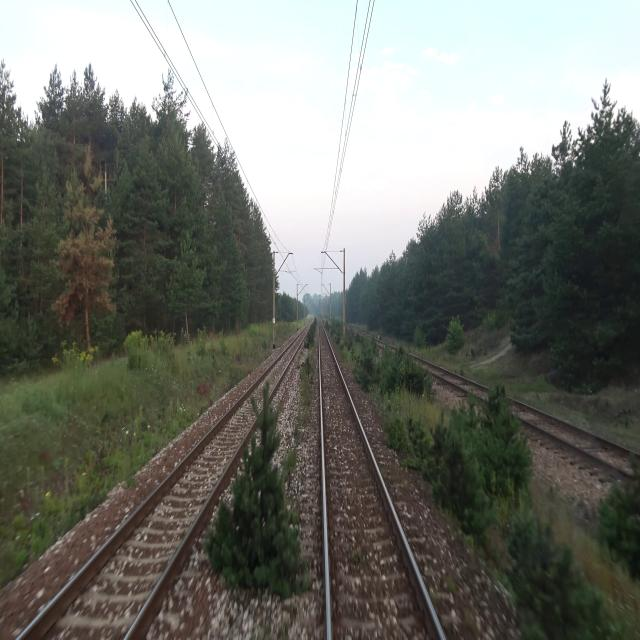rail-track: (22, 329, 306, 639), (320, 322, 440, 639), (510, 401, 640, 475), (422, 362, 486, 396)
